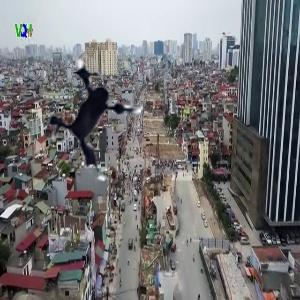drone: (28, 43, 178, 193)
